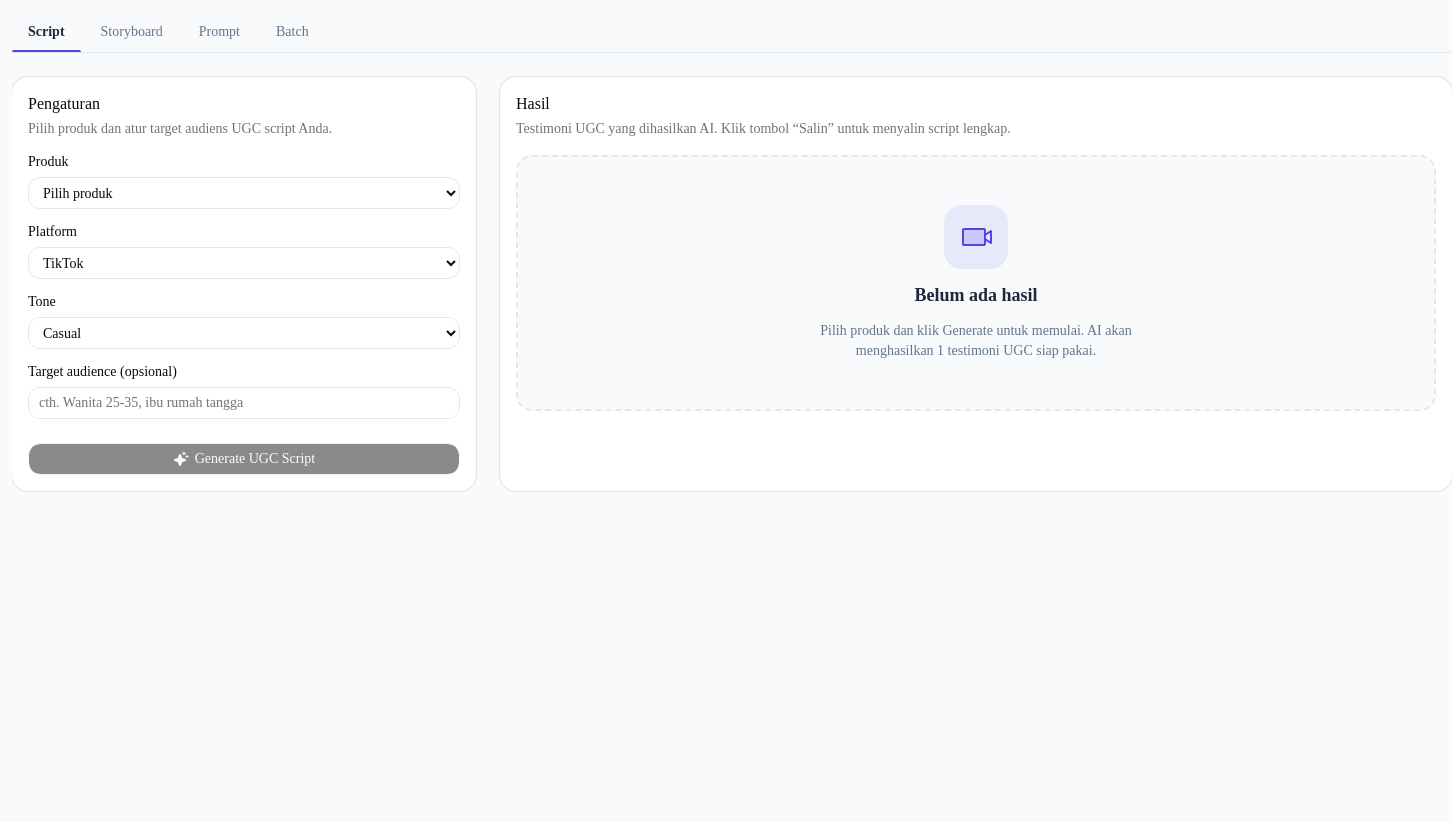
Test: UgcGenerator › renders Storyboard results: 4-6 panel cards with timing/visuals/audio/text
Click the tab "Storyboard" at [132, 32], box [85, 12, 179, 52]
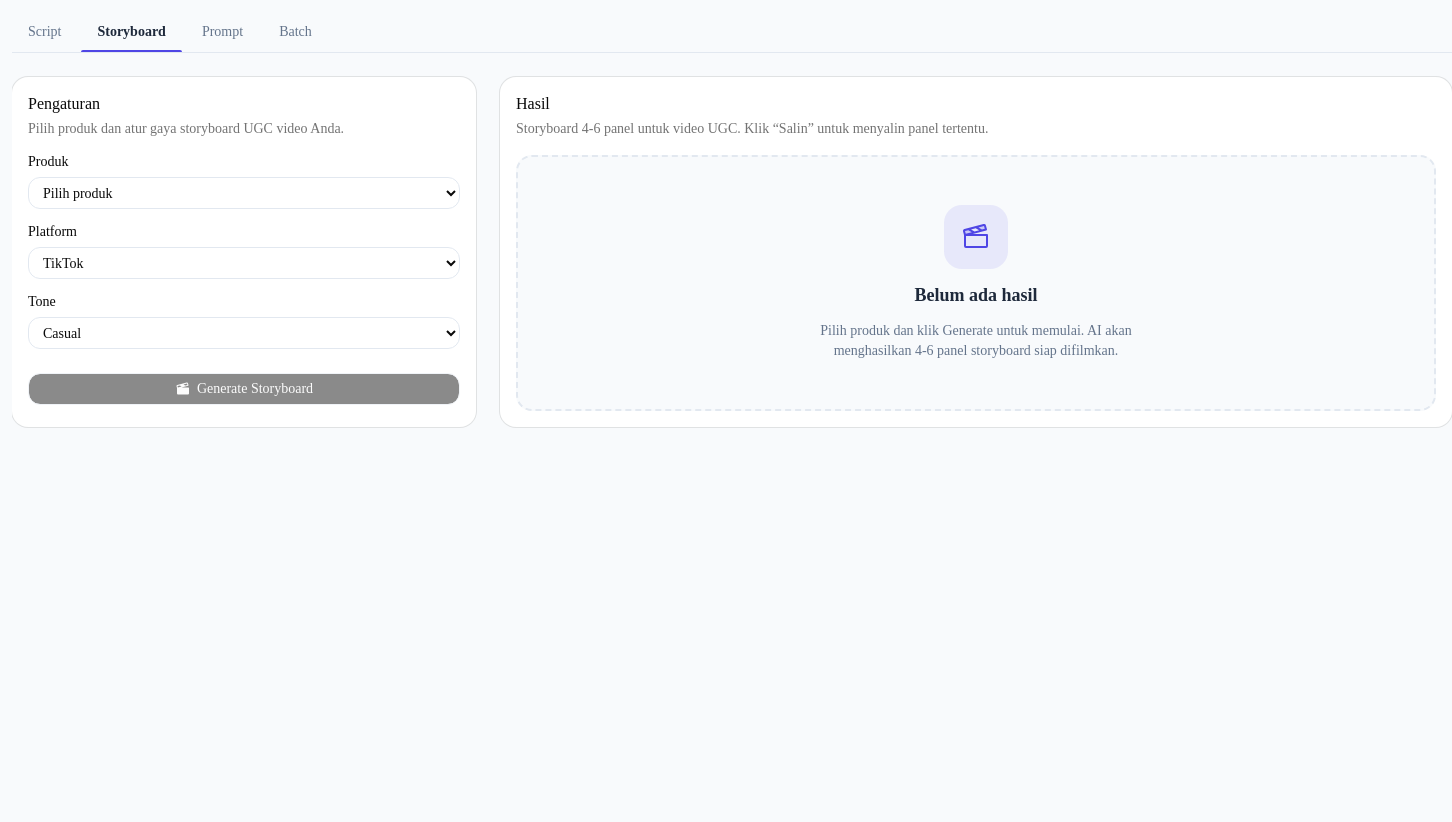
Select "Sample Product A" in the dropdown labelled "Produk" at [244, 193], box [28, 177, 460, 209]
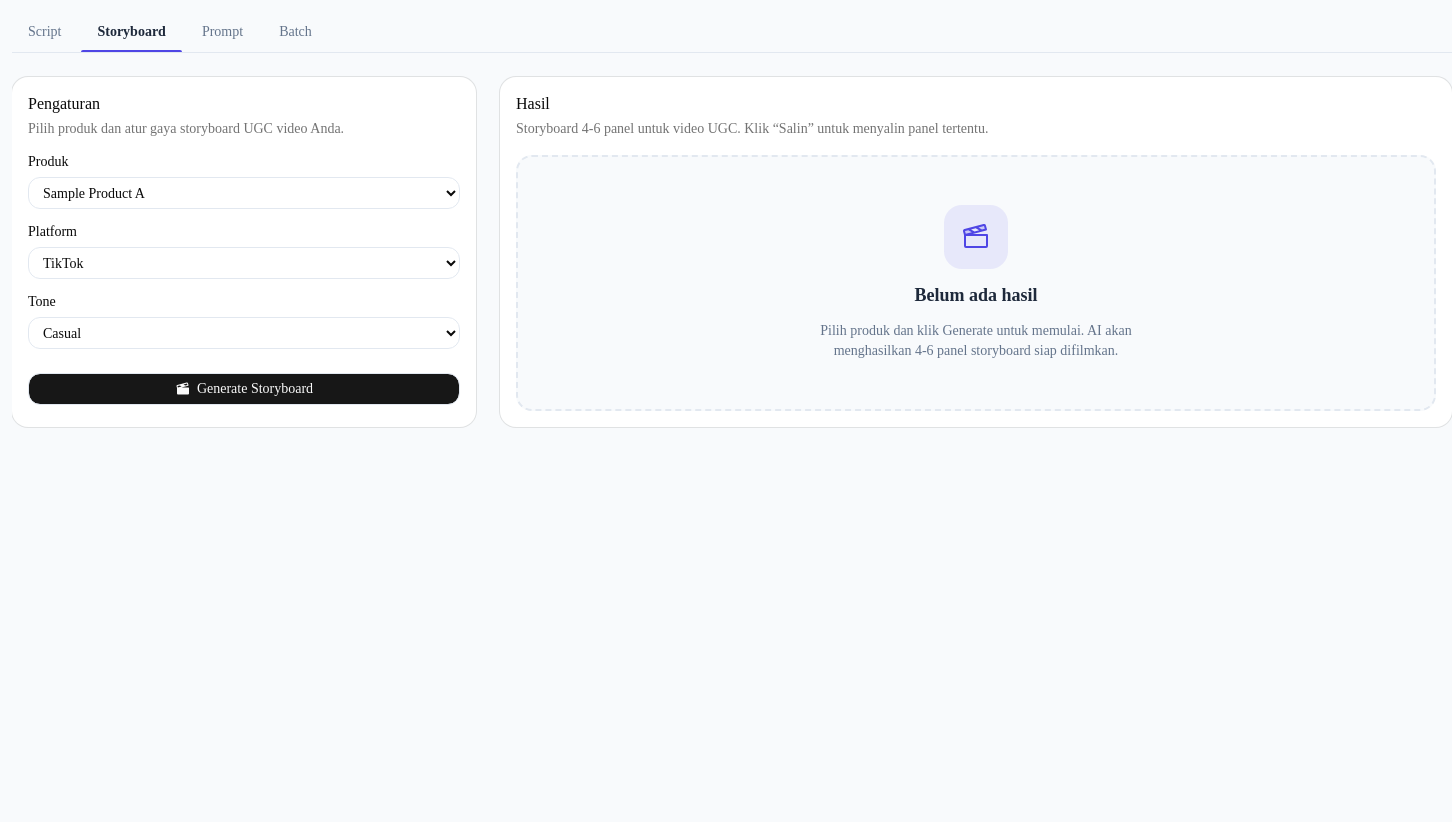
Click the button "Generate Storyboard" at [244, 389], box [28, 373, 460, 405]
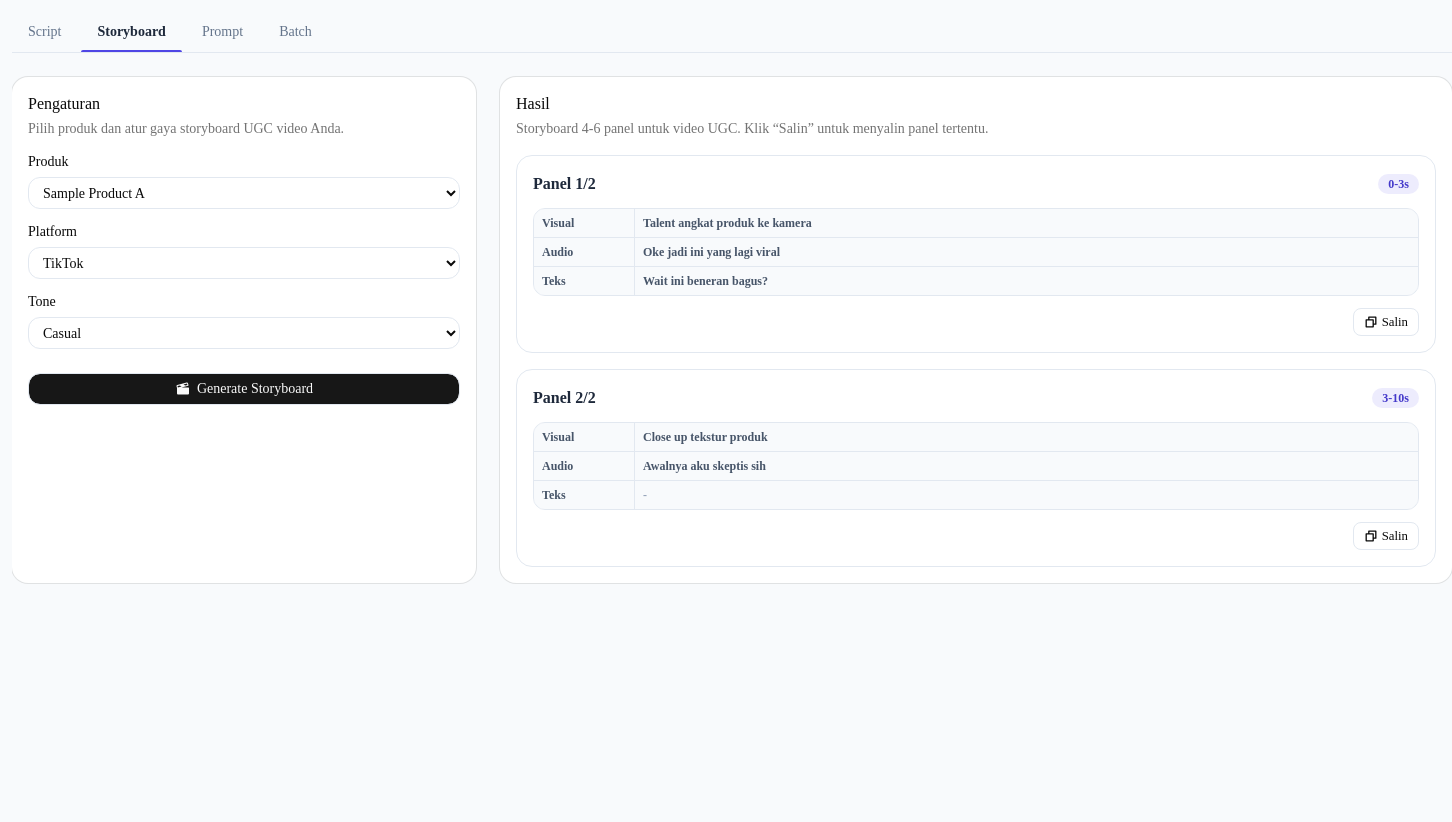
Result: the number of list items with test id "ugc-storyboard-card" is 2 at [516, 155, 1436, 353]; [516, 369, 1436, 567]
Result: the text "Talent angkat produk ke kamera" is shown at [635, 209, 1418, 237]
Result: the text "Oke jadi ini yang lagi viral" is shown at [635, 238, 1418, 266]
